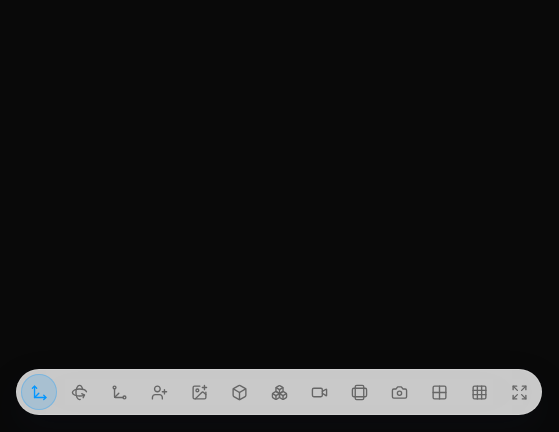
Test: closes the geometry submenu when users hover another character menu item
Click the button named "添加角色": (159, 392) x1=141 y1=374 x2=177 y2=410
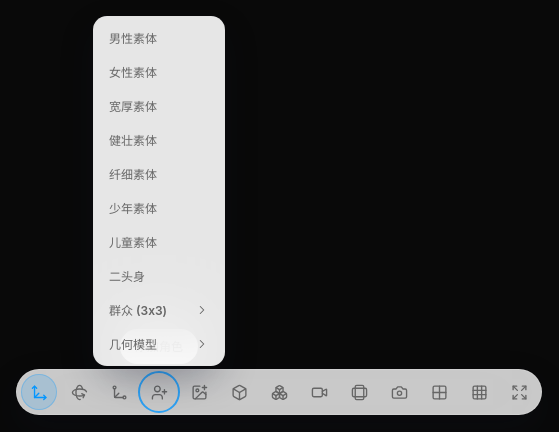
Hover over the menu item "几何模型": (159, 344) x1=100 y1=329 x2=218 y2=359
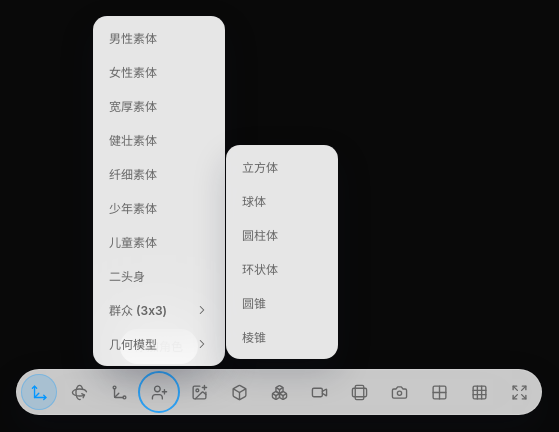
expect the menu named "选择几何模型" is shown: met, box x1=226 y1=145 x2=338 y2=359
Hover over the menu item "女性素体": (159, 72) x1=100 y1=57 x2=218 y2=87
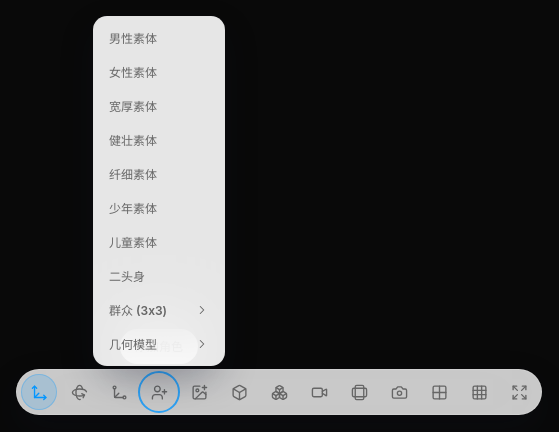
expect the menu named "选择角色体型" is shown: met, box x1=93 y1=16 x2=225 y2=366
expect the menu "选择几何模型" is gone: met
